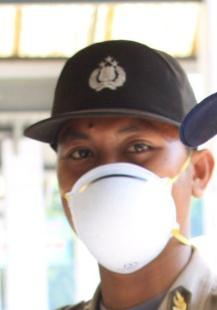OK: (57, 113, 184, 275)
